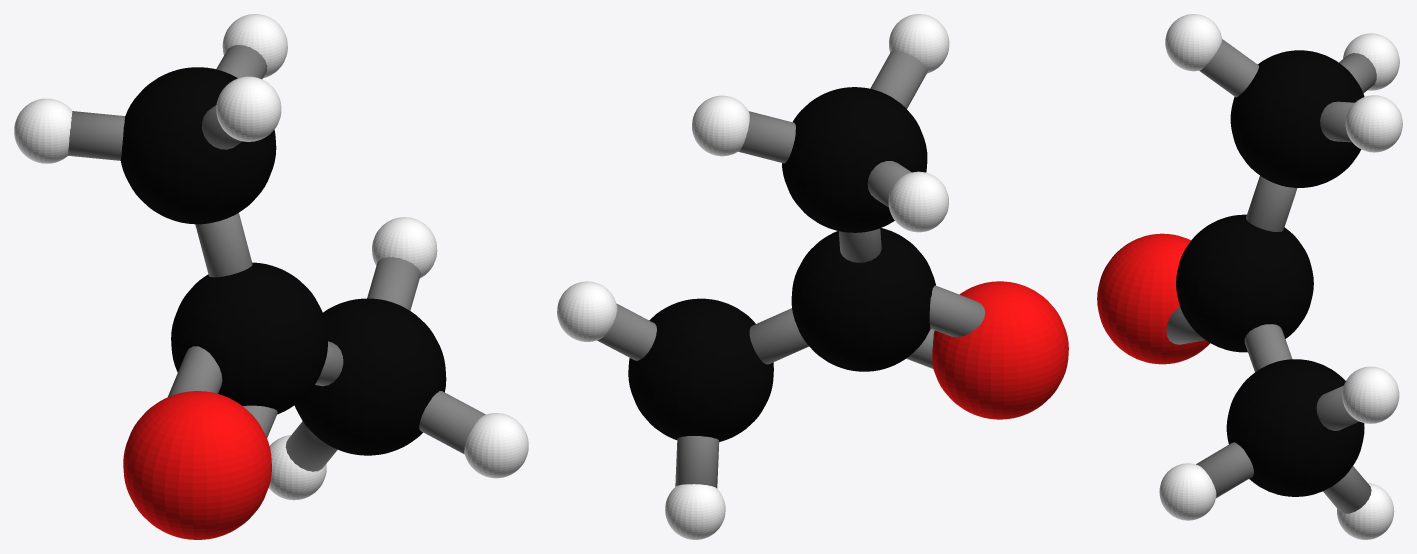
The model's file is PROPAPONA.obj.
The picture shows the model from 3 angles, left to right: view 1: azimuth 30°, elevation 25°; view 2: azimuth 150°, elevation 25°; view 3: azimuth 270°, elevation 25°; orthographic projection. The views are drawn at different scales.
Parts seen in each view (by area): view 1: Carbon_ball_Sphere.001, Oxygen_ball_Sphere.002, Hydrogen_ball_Sphere, Stick_Cylinder.006_Cylinder.006, Stick_Cylinder.007_Cylinder.007, Stick_Cylinder.004_Cylinder.004, Stick_Cylinder.002_Cylinder.002, Stick_Cylinder.008_Cylinder.008, Stick_Cylinder.003_Cylinder.003, Stick_Cylinder.005_Cylinder.005, Stick_Cylinder_Cylinder, Stick_Cylinder.001_Cylinder.001; view 2: Carbon_ball_Sphere.001, Hydrogen_ball_Sphere, Oxygen_ball_Sphere.002, Stick_Cylinder.008_Cylinder.008, Stick_Cylinder.003_Cylinder.003, Stick_Cylinder.001_Cylinder.001, Stick_Cylinder.005_Cylinder.005, Stick_Cylinder_Cylinder, Stick_Cylinder.002_Cylinder.002, Stick_Cylinder.006_Cylinder.006, Stick_Cylinder.007_Cylinder.007; view 3: Carbon_ball_Sphere.001, Hydrogen_ball_Sphere, Oxygen_ball_Sphere.002, Stick_Cylinder.006_Cylinder.006, Stick_Cylinder_Cylinder, Stick_Cylinder.004_Cylinder.004, Stick_Cylinder.001_Cylinder.001, Stick_Cylinder.003_Cylinder.003, Stick_Cylinder.002_Cylinder.002, Stick_Cylinder.005_Cylinder.005, Stick_Cylinder.007_Cylinder.007, Stick_Cylinder.009_Cylinder.009.
Part boxes in pixels (x1=…): Carbon_ball_Sphere.001: x1=120, y1=67, x2=446, y2=455; Oxygen_ball_Sphere.002: x1=123, y1=391, x2=271, y2=539; Hydrogen_ball_Sphere: x1=14, y1=14, x2=528, y2=500; Stick_Cylinder.006_Cylinder.006: x1=195, y1=213, x2=252, y2=277; Stick_Cylinder.007_Cylinder.007: x1=68, y1=111, x2=125, y2=160; Stick_Cylinder.004_Cylinder.004: x1=419, y1=391, x2=485, y2=454; Stick_Cylinder.002_Cylinder.002: x1=367, y1=257, x2=420, y2=310; Stick_Cylinder.008_Cylinder.008: x1=168, y1=346, x2=222, y2=396; Stick_Cylinder.003_Cylinder.003: x1=285, y1=421, x2=337, y2=471; Stick_Cylinder.005_Cylinder.005: x1=216, y1=45, x2=267, y2=79; Stick_Cylinder_Cylinder: x1=202, y1=105, x2=241, y2=149; Stick_Cylinder.001_Cylinder.001: x1=315, y1=341, x2=343, y2=386; Carbon_ball_Sphere.001: x1=628, y1=87, x2=935, y2=441; Hydrogen_ball_Sphere: x1=557, y1=14, x2=949, y2=539; Oxygen_ball_Sphere.002: x1=932, y1=281, x2=1068, y2=419; Stick_Cylinder.008_Cylinder.008: x1=929, y1=285, x2=985, y2=337; Stick_Cylinder.003_Cylinder.003: x1=675, y1=436, x2=719, y2=488; Stick_Cylinder.001_Cylinder.001: x1=749, y1=308, x2=809, y2=364; Stick_Cylinder.005_Cylinder.005: x1=738, y1=111, x2=795, y2=163; Stick_Cylinder_Cylinder: x1=870, y1=50, x2=927, y2=108; Stick_Cylinder.002_Cylinder.002: x1=597, y1=303, x2=656, y2=360; Stick_Cylinder.006_Cylinder.006: x1=838, y1=228, x2=881, y2=262; Stick_Cylinder.007_Cylinder.007: x1=867, y1=161, x2=911, y2=207; Carbon_ball_Sphere.001: x1=1176, y1=50, x2=1364, y2=496; Hydrogen_ball_Sphere: x1=1159, y1=14, x2=1402, y2=539; Oxygen_ball_Sphere.002: x1=1097, y1=233, x2=1210, y2=364; Stick_Cylinder.006_Cylinder.006: x1=1246, y1=176, x2=1297, y2=232; Stick_Cylinder_Cylinder: x1=1199, y1=39, x2=1258, y2=97; Stick_Cylinder.004_Cylinder.004: x1=1196, y1=442, x2=1253, y2=498; Stick_Cylinder.001_Cylinder.001: x1=1244, y1=324, x2=1292, y2=371; Stick_Cylinder.003_Cylinder.003: x1=1323, y1=466, x2=1371, y2=513; Stick_Cylinder.002_Cylinder.002: x1=1316, y1=385, x2=1358, y2=430; Stick_Cylinder.005_Cylinder.005: x1=1320, y1=101, x2=1354, y2=142; Stick_Cylinder.007_Cylinder.007: x1=1339, y1=53, x2=1376, y2=93; Stick_Cylinder.009_Cylinder.009: x1=1166, y1=306, x2=1204, y2=344.
Bounding box in the file's own units: 4.26 × 5.1 × 3.07.
